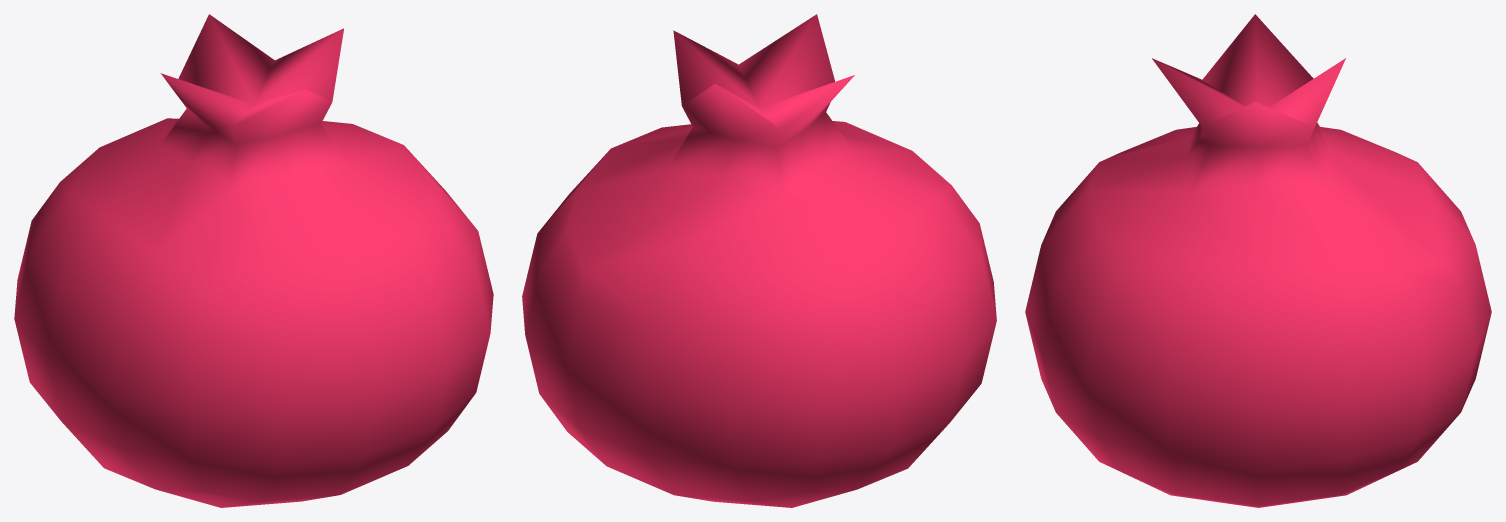
File: grenade-full.fbx
3 views of the same model, side by side, from view 1: azimuth 30°, elevation 25°; view 2: azimuth 150°, elevation 25°; view 3: azimuth 270°, elevation 25° (orthographic). The views are drawn at different scales.
Visible parts, largest first — view 1: Grenade; view 2: Grenade; view 3: Grenade.
Part boxes in pixels (x1,y1,x2,y2): Grenade: (14, 14, 493, 507); Grenade: (522, 14, 996, 507); Grenade: (1025, 14, 1491, 507).
Size of the model in its own units: 211 by 211 by 211.
